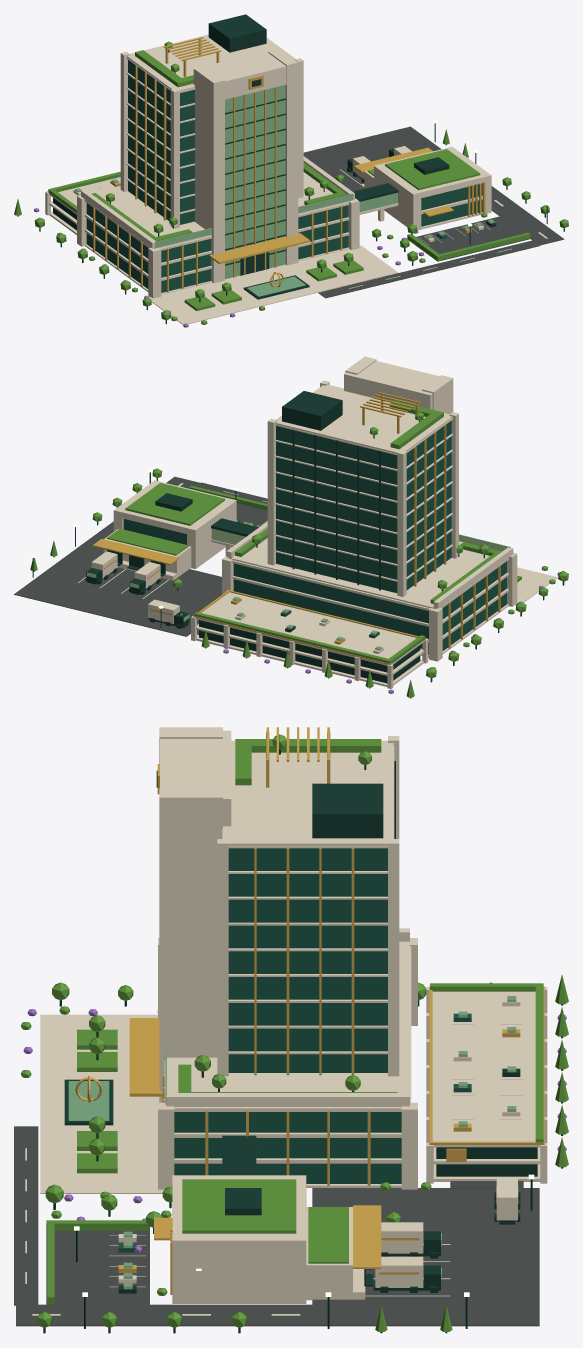
File: business-operations-hq.glb
3 views of the same model, one above another, from view 1: azimuth 30°, elevation 25°; view 2: azimuth 150°, elevation 25°; view 3: azimuth 270°, elevation 25° (orthographic). The views are drawn at different scales.
Visible parts, largest first — view 1: hq_stone, hq_glass, hq_atrium, hq_asphalt, hq_gold, hq_green, hq_frame, annex_stone, annex_green, annex_glass, annex_gold, annex_frame (+1 smaller); view 2: hq_stone, hq_glass, hq_asphalt, hq_frame, hq_green, annex_stone, hq_gold, annex_green, annex_frame, annex_gold, annex_glass, hq_atrium (+1 smaller); view 3: hq_stone, hq_glass, hq_asphalt, annex_stone, hq_green, hq_gold, hq_frame, annex_green, annex_frame, annex_gold, hq_atrium.
Boxes of the visible parts, <box> form: hq_stone: <box>45,34,547,324</box>; hq_glass: <box>86,60,446,292</box>; hq_atrium: <box>75,85,494,296</box>; hq_asphalt: <box>303,126,564,298</box>; hq_gold: <box>47,37,471,292</box>; hq_green: <box>14,41,568,324</box>; hq_frame: <box>17,14,564,324</box>; annex_stone: <box>352,146,491,230</box>; annex_green: <box>367,149,480,233</box>; annex_glass: <box>421,183,482,226</box>; annex_gold: <box>353,147,485,216</box>; annex_frame: <box>347,148,449,234</box>; hq_stone: <box>78,356,557,688</box>; hq_glass: <box>233,421,506,654</box>; hq_asphalt: <box>14,476,267,636</box>; hq_frame: <box>32,391,564,698</box>; hq_green: <box>30,400,568,697</box>; annex_stone: <box>91,480,236,623</box>; hq_gold: <box>193,392,500,664</box>; annex_green: <box>107,483,253,555</box>; annex_frame: <box>85,493,258,628</box>; annex_gold: <box>92,539,179,615</box>; annex_glass: <box>123,519,186,544</box>; hq_atrium: <box>232,520,510,650</box>; hq_stone: <box>25,727,547,1315</box>; hq_glass: <box>118,848,471,1252</box>; hq_asphalt: <box>14,1126,539,1326</box>; annex_stone: <box>172,1175,517,1303</box>; hq_green: <box>21,734,568,1331</box>; hq_gold: <box>75,727,544,1272</box>; hq_frame: <box>43,749,563,1333</box>; annex_green: <box>146,1179,348,1263</box>; annex_frame: <box>153,1135,520,1292</box>; annex_gold: <box>154,1186,518,1294</box>; hq_atrium: <box>68,996,516,1289</box>.
Size of the model in its own units: 19.47 by 9.32 by 13.67.
